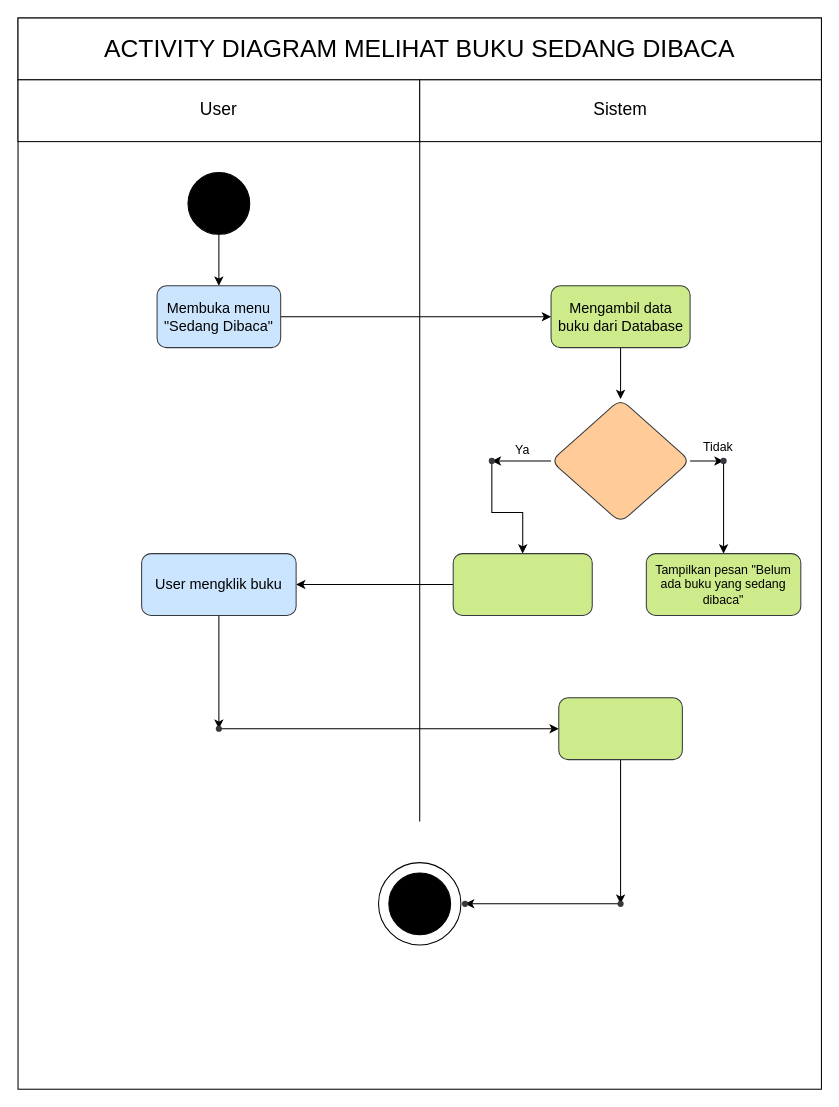
This 839x1107 diagram has some shape labels left out. Each missing label, with the centre of its shape:
Apakah ada buku yang sedang dibaca ?: (x=620, y=460)
Menampilkan detail buku: (x=620, y=728)
Tampilkan daftar buku yang sedang dibaca: (x=522, y=584)
